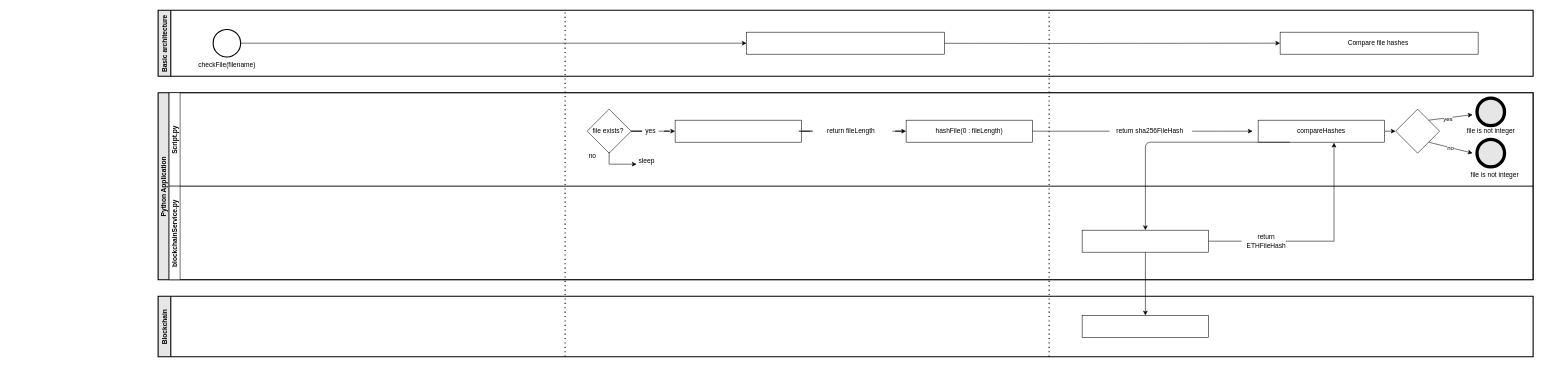
Some shapes in this 1543 by 367 pixel diagram are drawn without their labels. Each missing label, with the centre of its shape:
checkFileLenght: point (738, 131)
getFileHash: point (1145, 326)
getFileHash(): point (1145, 241)
Hash File: point (845, 43)
hashes match?: point (1417, 131)
